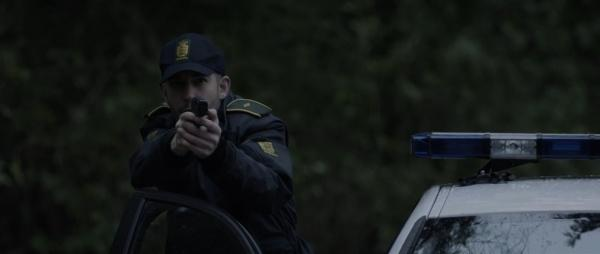Gun: (189, 98, 210, 120)
